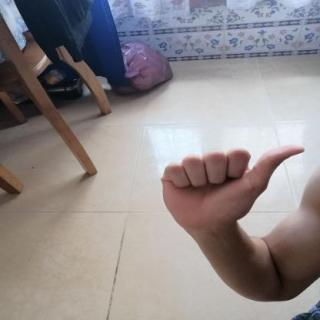DAD: (150, 135, 313, 240)
